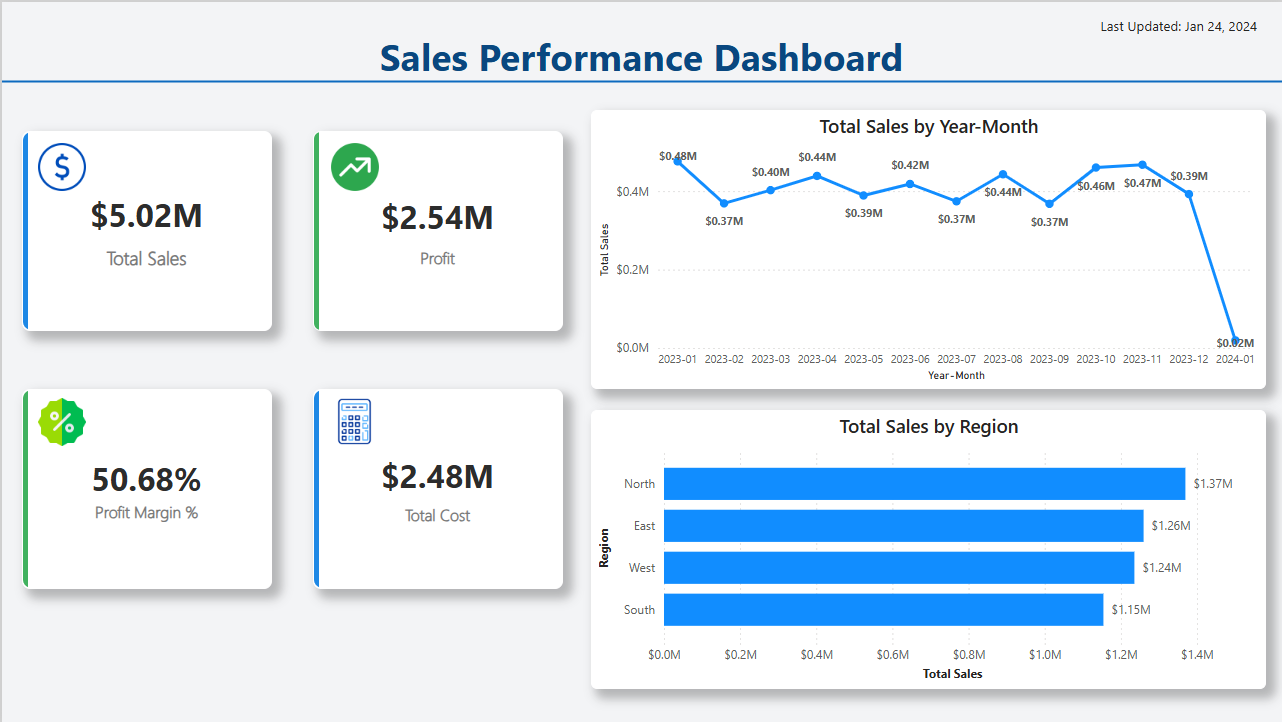

The dashboard page shown, as its layout file describes it:
{"tool":"powerbi","page":{"name":"Executive Overview","canvas":[1280,720],"ordinal":0},"visuals":[{"type":"lineChart","fields":{"Y":["DateTable.Total Sales"],"Category":["DateTable.Year-Month"]},"box":[588.8,108.2,674.8,278.4],"z":0},{"type":"clusteredBarChart","fields":{"Y":["DateTable.Total Sales"],"Category":["sales_data.Region"]},"box":[588.8,407.9,674.8,279.3],"z":1000},{"type":"textbox","box":[343.2,23.5,594.1,67.9],"z":2000},{"type":"cardVisual","title":"Total Sales","fields":{"Data":["DateTable.Total Sales"]},"box":[19.5,128.6,250,200.4],"z":3000},{"type":"cardVisual","title":"Total Sales","fields":{"Data":["DateTable.Profit"]},"box":[311.2,128.6,250,200.4],"z":4000},{"type":"image","box":[25.7,141,68.3,47.9],"z":5000},{"type":"cardVisual","title":"Total Sales","fields":{"Data":["DateTable.Total Cost"]},"box":[311.2,386.6,250,200.4],"z":6000},{"type":"cardVisual","title":"Total Sales","fields":{"Data":["DateTable.Profit Margin %"]},"box":[19.5,386.6,250,200.4],"z":7000},{"type":"shape","box":[0,38.1,1280.4,83.3],"z":8000},{"type":"textbox","box":[1094.2,9.8,179.1,28.4],"z":9000},{"type":"image","box":[319.2,396.4,68.3,47],"z":10000},{"type":"image","box":[25.7,396.4,68.3,47.9],"z":11000},{"type":"image","box":[319.2,141,68.3,47.9],"z":12000}]}

Visuals, with their boxes in screenshot pixels (x1, y1, x2, y2), scaled from the page's 1280x720 canvas onto the 1282x722 screenshot:
lineChart - DateTable.Total Sales x DateTable.Year-Month: (590, 109, 1266, 388)
clusteredBarChart - DateTable.Total Sales x sales_data.Region: (590, 409, 1266, 689)
textbox: (344, 24, 939, 92)
"Total Sales" cardVisual: (20, 129, 270, 330)
"Total Sales" cardVisual: (312, 129, 562, 330)
image: (26, 141, 94, 189)
"Total Sales" cardVisual: (312, 388, 562, 589)
"Total Sales" cardVisual: (20, 388, 270, 589)
shape: (0, 38, 1281, 122)
textbox: (1096, 10, 1275, 38)
image: (320, 398, 388, 445)
image: (26, 398, 94, 446)
image: (320, 141, 388, 189)
